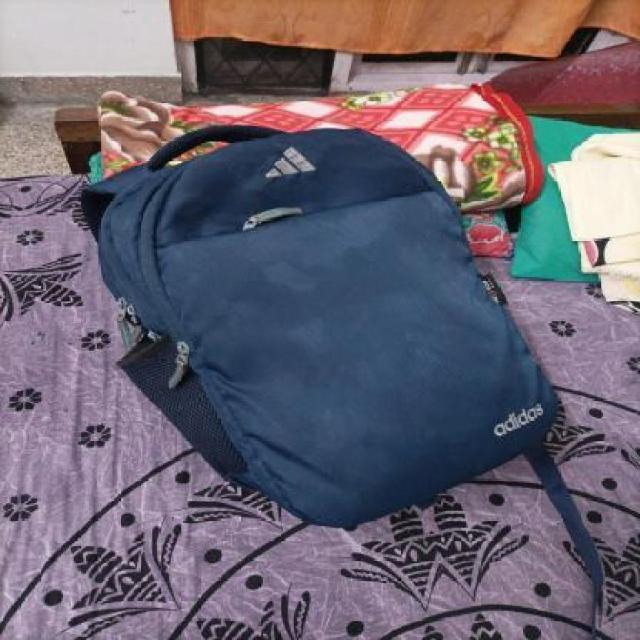backpack: (75, 119, 568, 536)
